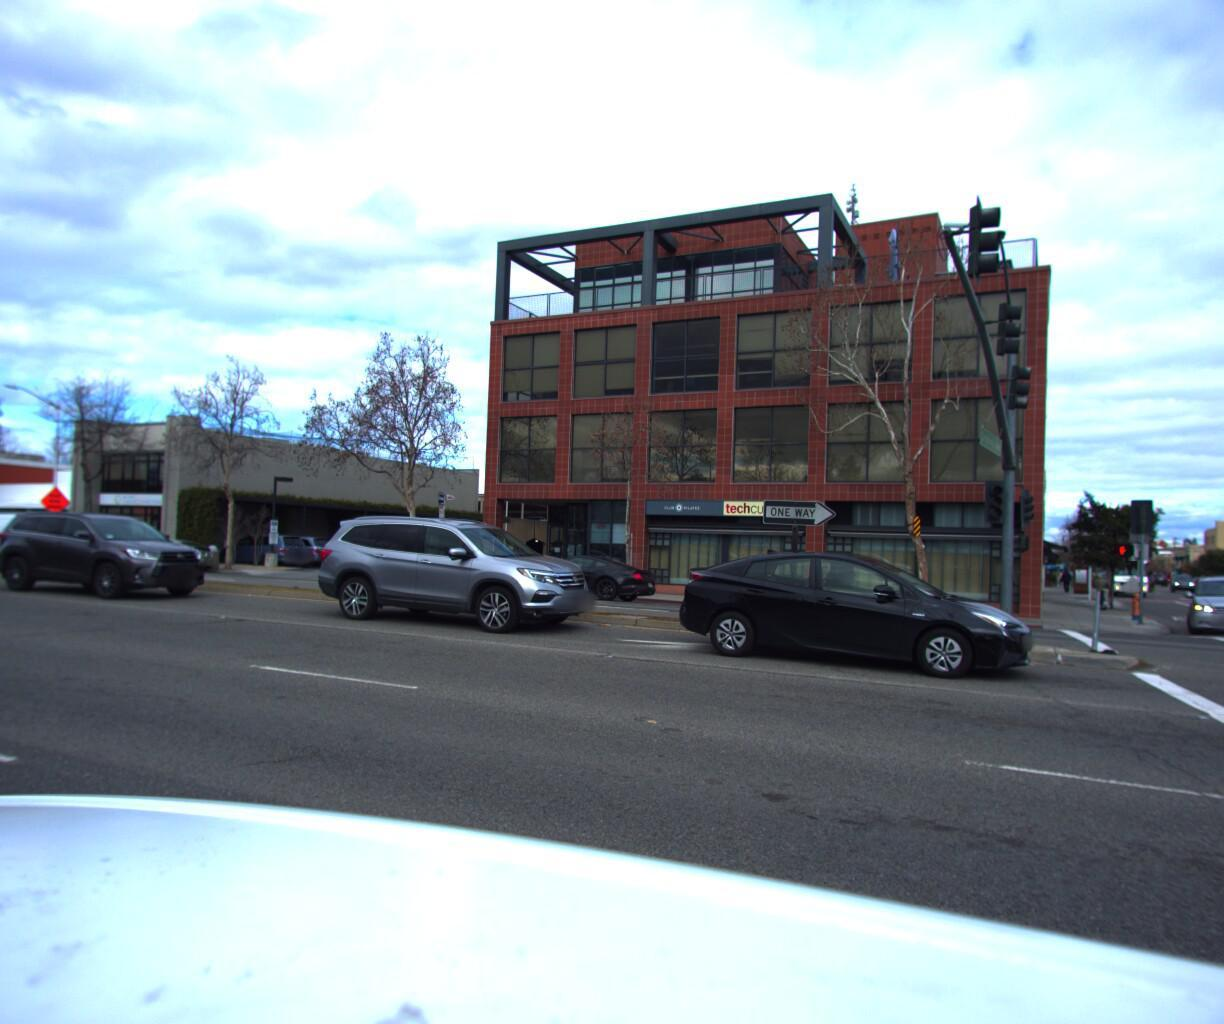car: (668, 539, 1044, 684), (298, 507, 605, 638), (0, 502, 221, 600), (506, 547, 663, 599), (109, 530, 219, 569), (0, 500, 68, 559), (209, 527, 313, 565), (248, 529, 344, 565), (1181, 563, 1224, 637), (1160, 567, 1195, 586)
truck: (1097, 547, 1155, 598)
